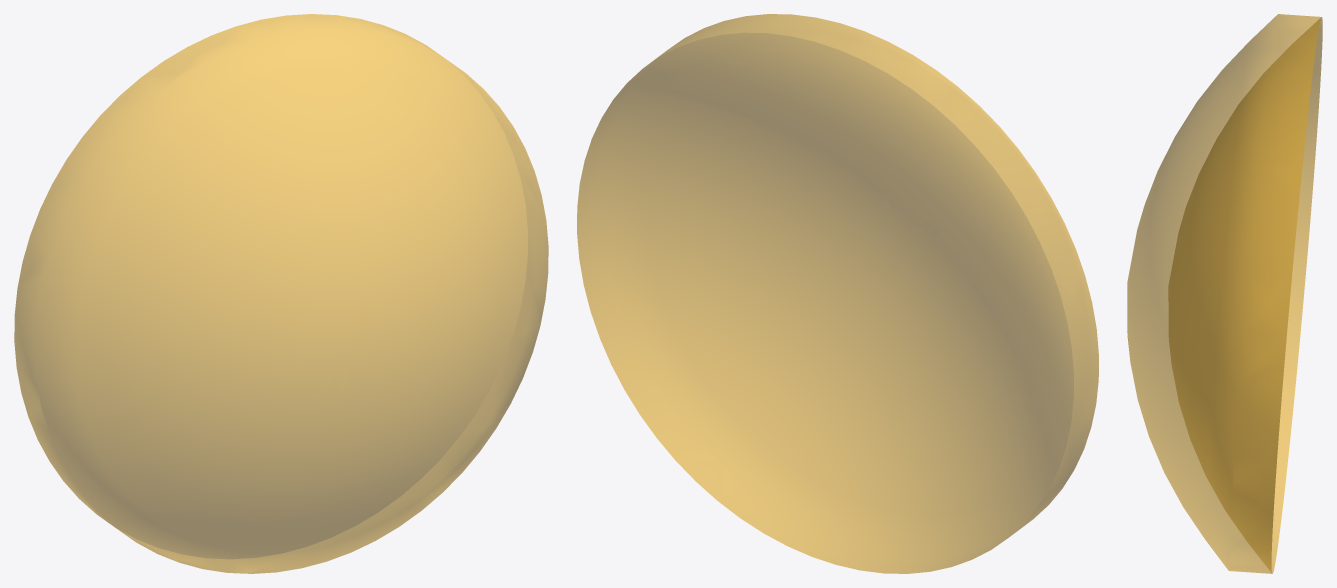
File: nervoso-cornea-r.glb
The picture shows the model from 3 angles, left to right: view 1: azimuth 30°, elevation 25°; view 2: azimuth 150°, elevation 25°; view 3: azimuth 270°, elevation 25°; orthographic projection. The views are drawn at different scales.
Parts seen in each view (by area): view 1: Cornea.r; view 2: Cornea.r; view 3: Cornea.r.
Boxes of the visible parts, bbox=[...] form: Cornea.r: bbox=[14, 14, 548, 573]; Cornea.r: bbox=[577, 14, 1098, 573]; Cornea.r: bbox=[1127, 14, 1322, 573].
Bounding box in the file's own units: 0.0142 × 0.0142 × 0.00496.
